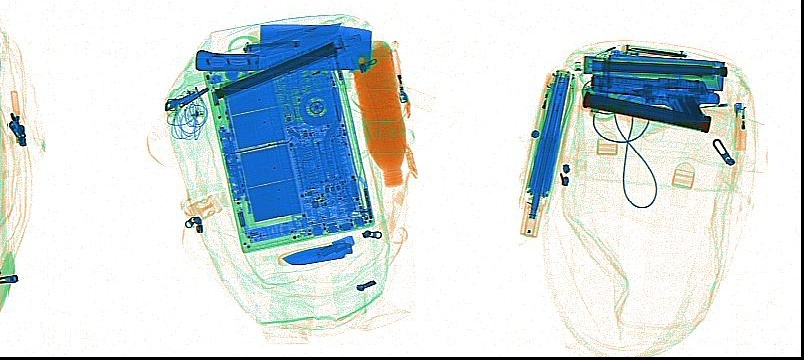knife: (193, 22, 372, 73), (276, 239, 353, 267), (622, 42, 688, 59), (241, 39, 302, 57)
lighter: (355, 39, 401, 74), (389, 48, 408, 104), (8, 89, 25, 144), (732, 102, 748, 151)
pressure: (600, 54, 726, 92)
scissors: (224, 23, 318, 79)
